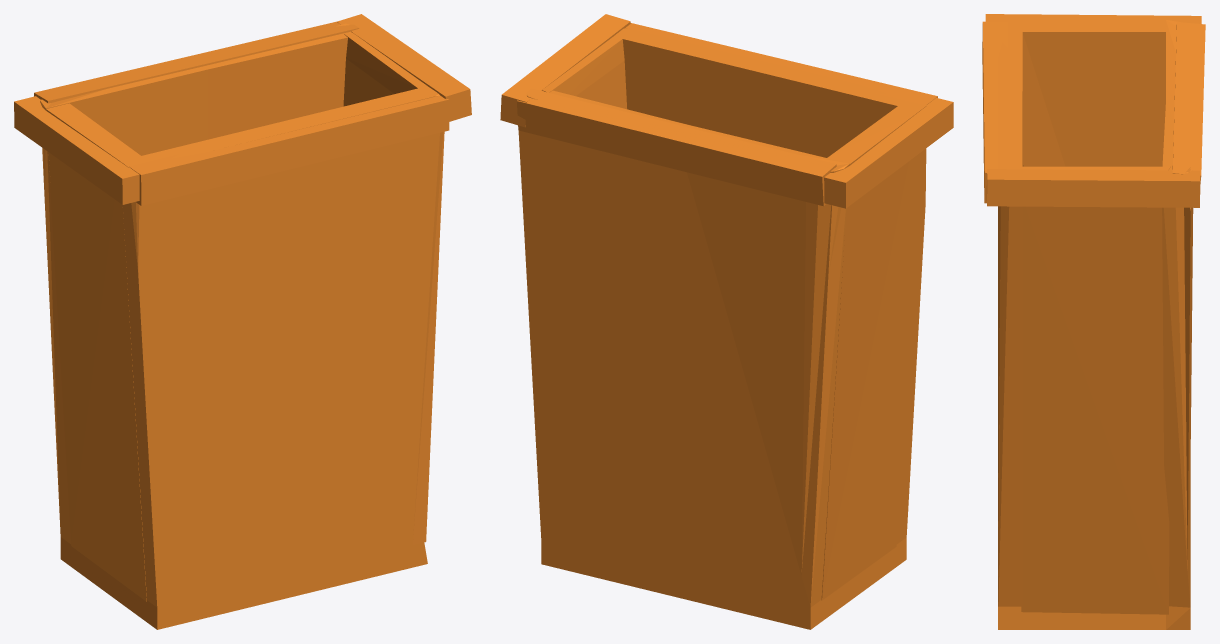
File: bin_orange.glb
3 views of the same model, side by side, from view 1: azimuth 30°, elevation 25°; view 2: azimuth 150°, elevation 25°; view 3: azimuth 270°, elevation 25° (orthographic).
Visible parts, largest first — view 1: group954169556.001; view 2: group954169556.001; view 3: group954169556.001.
Boxes of the visible parts, x1,y1,x2,y2 form: group954169556.001: (14, 14, 471, 629); group954169556.001: (500, 14, 953, 629); group954169556.001: (982, 14, 1205, 629).
Size of the model in its own units: 2.66 by 3.41 by 1.48.
